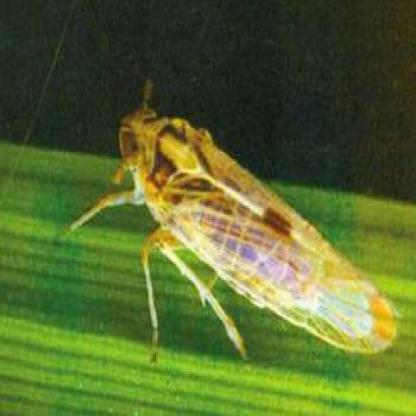brown-planthopper: (121, 103, 395, 356)
